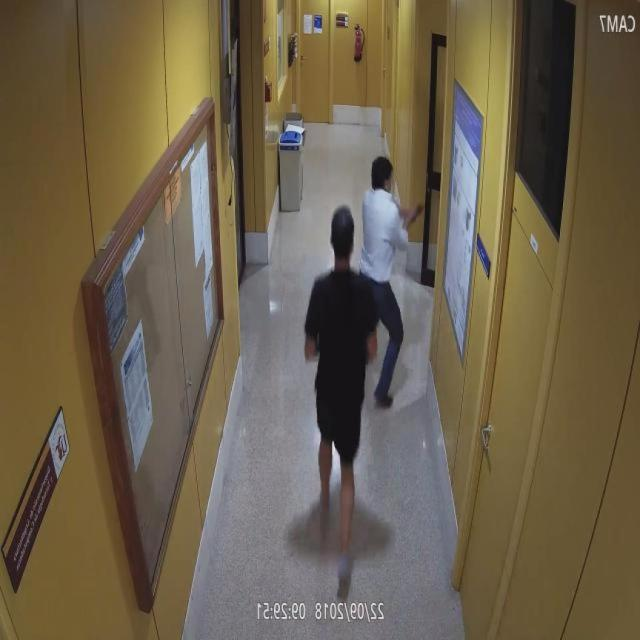pistol: (406, 202, 426, 226)
